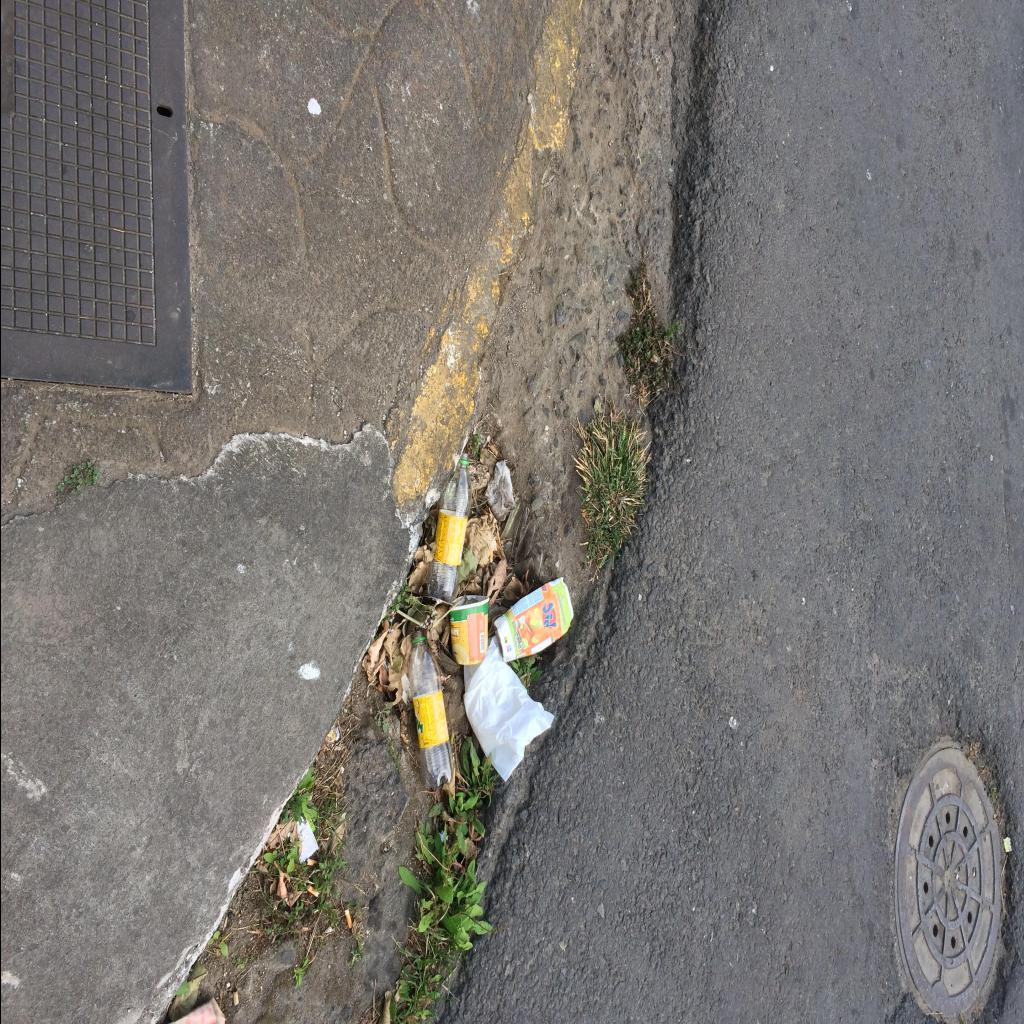Cigarette: (342, 908, 350, 930), (305, 886, 318, 898), (306, 858, 318, 866)
Clear plastic bottle: (407, 628, 453, 788), (426, 452, 472, 604)
Paper cup: (450, 595, 488, 665)
Plastic film: (462, 636, 554, 782), (483, 460, 512, 520)
Unlabeled litter: (297, 821, 318, 865)
